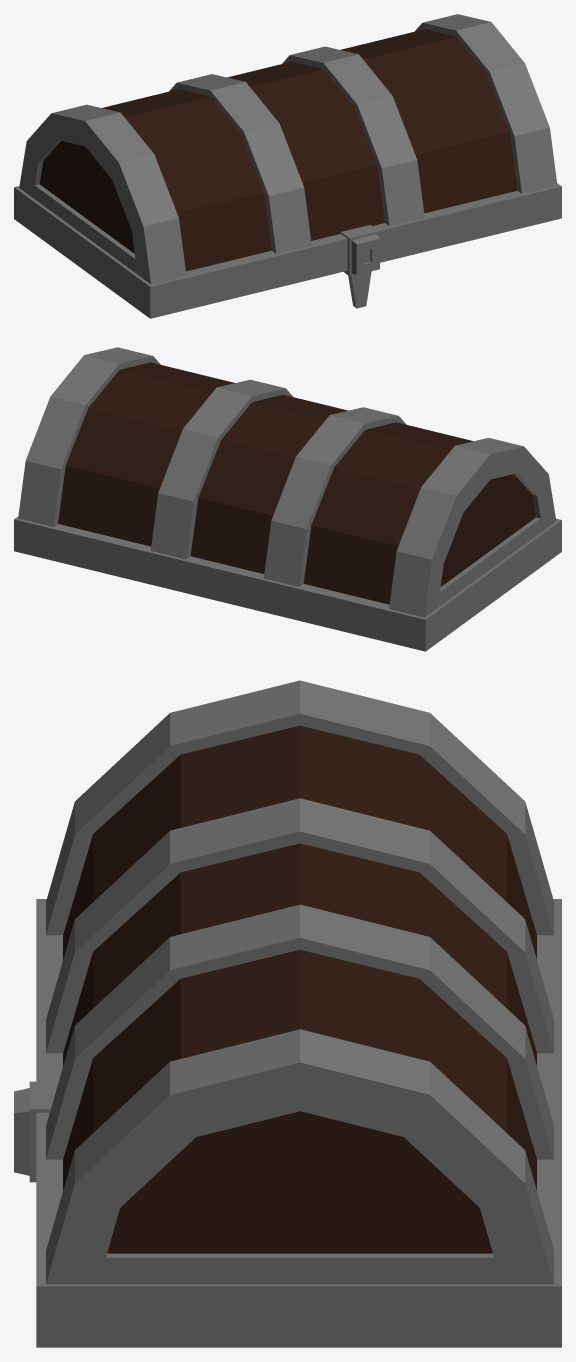
Rendered from SM_chest_lid_02.fbx.
3 views of the same model, one above another, from view 1: azimuth 30°, elevation 25°; view 2: azimuth 150°, elevation 25°; view 3: azimuth 270°, elevation 25° (orthographic). The views are drawn at different scales.
Visible parts, largest first — view 1: Object009; view 2: Object009; view 3: Object009.
Part boxes in pixels (box(x1,y1,x2,y2)): Object009: box(14, 14, 561, 318); Object009: box(14, 347, 561, 651); Object009: box(14, 680, 561, 1347).
Size of the model in its own units: 56.23 by 24.44 by 33.64.
